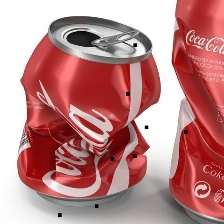can: (11, 13, 164, 212), (164, 0, 223, 224)
